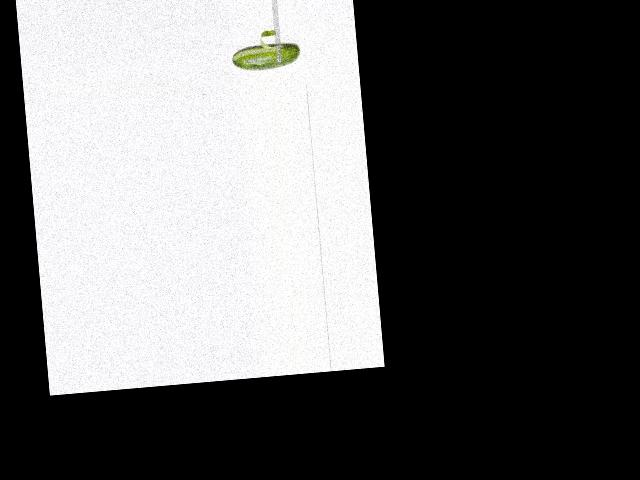cucumber: (231, 40, 301, 72)
